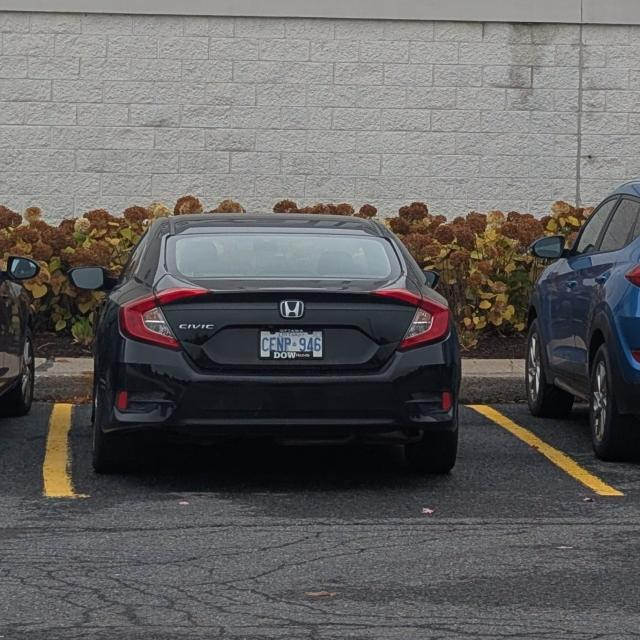plaque: (260, 330, 323, 359)
